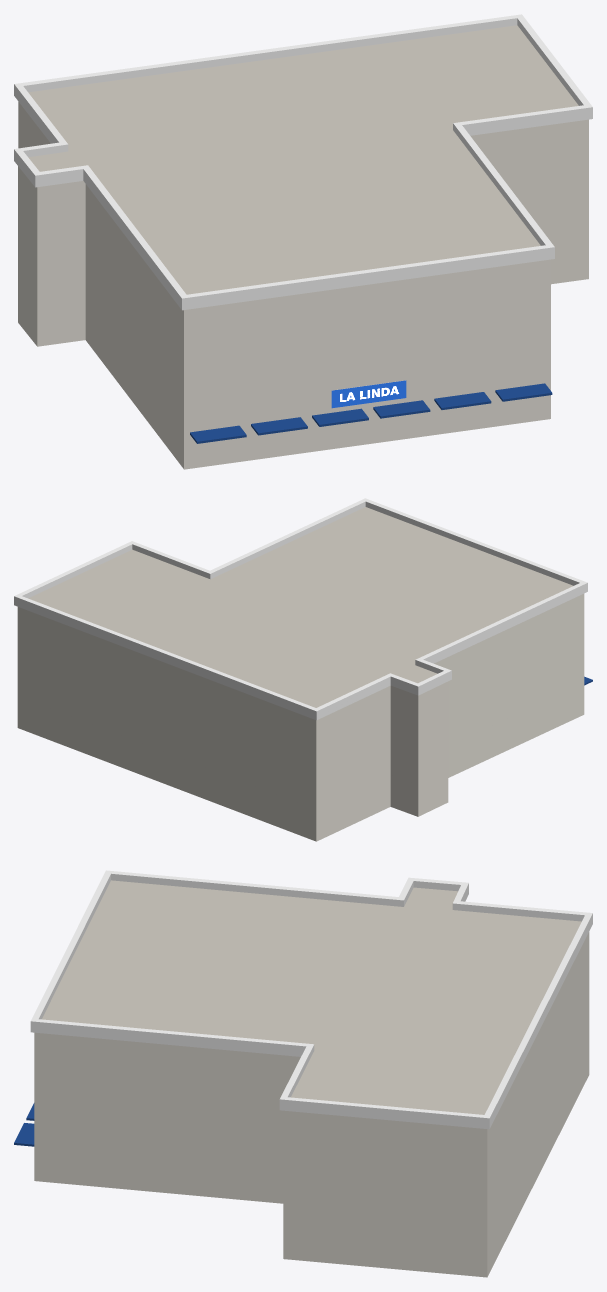
File: lalinda.glb
3 views of the same model, one above another, from view 1: azimuth 30°, elevation 25°; view 2: azimuth 150°, elevation 25°; view 3: azimuth 270°, elevation 25° (orthographic). The views are drawn at different scales.
Visible parts, largest first — view 1: lalinda_lod0; view 2: lalinda_lod0; view 3: lalinda_lod0.
Boxes of the visible parts, x1,y1,x2,y2 form: lalinda_lod0: [14, 14, 592, 469]; lalinda_lod0: [14, 498, 592, 841]; lalinda_lod0: [14, 870, 592, 1277].
Size of what is drawn, in the model's own units: 48.29 by 14.6 by 47.66.
Materials: 6 (2 with a texture image).
